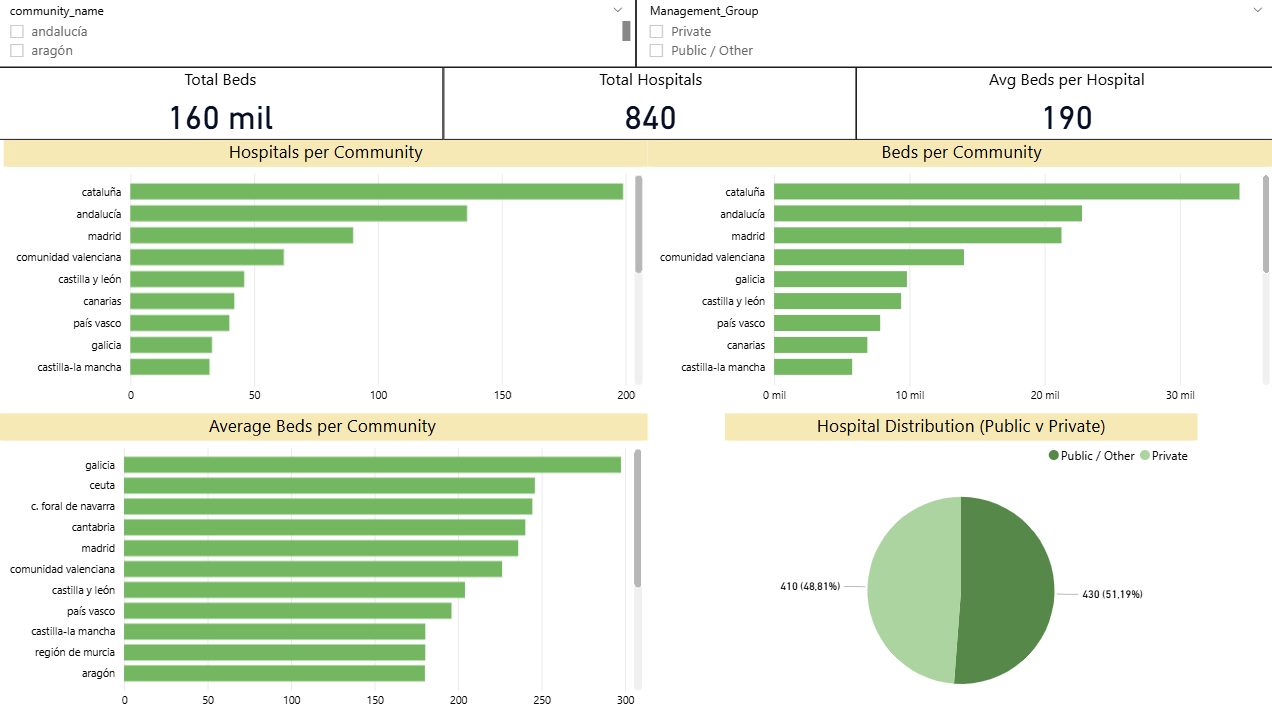

The page's visual inventory and layout, read from the dashboard file:
{"tool":"powerbi","page":{"name":"Page 1","canvas":[1280,720],"ordinal":0},"visuals":[{"type":"barChart","title":"Hospitals per Community","fields":{"Category":["hospital_capacity_db hospital_full_data.community_name"],"Y":["CountNonNull(hospital_capacity_db hospital_full_data.hospital_id)"]},"box":[7.1,142.9,644.3,272.9],"z":0},{"type":"slicer","fields":{"Values":["hospital_capacity_db hospital_full_data.community_name"]},"box":[0,0,640,70],"z":1000},{"type":"slicer","fields":{"Values":["hospital_capacity_db hospital_full_data.Management_Group"]},"box":[640,0,640,70],"z":2000},{"type":"barChart","title":"Beds per Community","fields":{"Category":["hospital_capacity_db hospital_full_data.community_name"],"Y":["Sum(hospital_capacity_db hospital_full_data.beds)"]},"box":[651.4,142.9,628.6,272.9],"z":3000},{"type":"barChart","title":"Average Beds per Community","fields":{"Category":["hospital_capacity_db hospital_full_data.community_name"],"Y":["Avg(hospital_capacity_db hospital_full_data.beds)"]},"box":[0.7,415.7,650,304.3],"z":4000},{"type":"pieChart","title":"Hospital Distribution (Public v Private)","fields":{"Category":["hospital_capacity_db hospital_full_data.Management_Group"],"Y":["CountNonNull(hospital_capacity_db hospital_full_data.hospital_id)"]},"box":[728.6,415.7,472.9,304.3],"z":5000},{"type":"card","title":"Total Beds","fields":{"Values":["Sum(hospital_capacity_db hospital_full_data.beds)"]},"box":[0,70,447.1,72.9],"z":6000},{"type":"card","title":"Total Hospitals","fields":{"Values":["CountNonNull(hospital_capacity_db hospital_full_data.hospital_id)"]},"box":[447.1,70,412.9,72.9],"z":7000},{"type":"card","title":"Avg Beds per Hospital","fields":{"Values":["Avg(hospital_capacity_db hospital_full_data.beds)"]},"box":[860,70,420,72.9],"z":8000}]}

Visuals, with their boxes in screenshot pixels (x1, y1, x2, y2), scaled from the page's 1280x720 canvas onto the 1272x713 screenshot:
"Hospitals per Community" barChart: (7, 142, 647, 412)
slicer - hospital_capacity_db hospital_full_data.community_name: (0, 0, 636, 69)
slicer - hospital_capacity_db hospital_full_data.Management_Group: (636, 0, 1271, 69)
"Beds per Community" barChart: (647, 142, 1271, 412)
"Average Beds per Community" barChart: (1, 412, 647, 712)
"Hospital Distribution (Public v Private)" pieChart: (724, 412, 1194, 712)
"Total Beds" card: (0, 69, 444, 142)
"Total Hospitals" card: (444, 69, 855, 142)
"Avg Beds per Hospital" card: (855, 69, 1271, 142)
